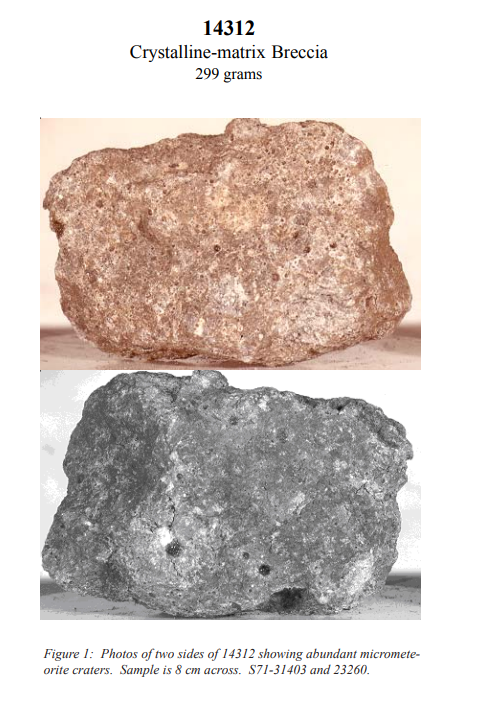Breccia: (41, 120, 417, 361), (38, 383, 415, 612), (42, 120, 417, 348)
